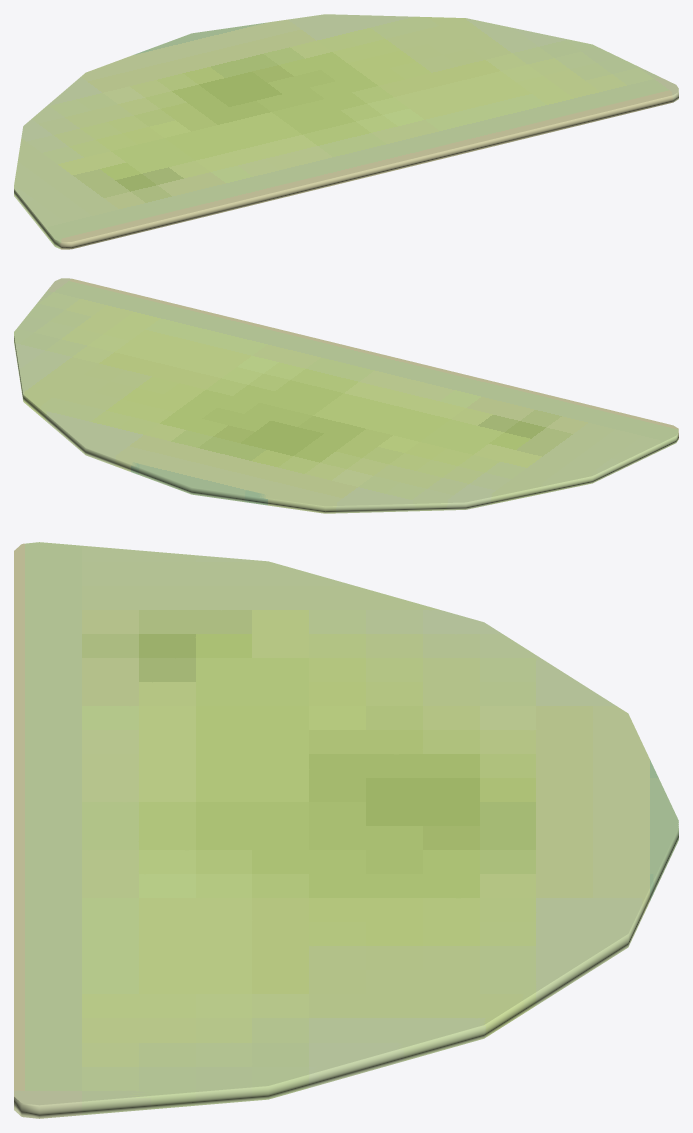
File: a_com_house_a01_mat01_halfcircle.gltf
The picture shows the model from 3 angles, top to bottom: view 1: azimuth 30°, elevation 25°; view 2: azimuth 150°, elevation 25°; view 3: azimuth 270°, elevation 25°; orthographic projection. The views are drawn at different scales.
Visible parts, largest first — view 1: um_a_com_house_a01_mat01_model_a_com_house_a01_mat01_modelSh (×5); view 2: um_a_com_house_a01_mat01_model_a_com_house_a01_mat01_modelSh (×5); view 3: um_a_com_house_a01_mat01_model_a_com_house_a01_mat01_modelSh (×5).
Boxes of the visible parts, x1,y1,x2,y2 form: um_a_com_house_a01_mat01_model_a_com_house_a01_mat01_modelSh (×5): (14,14,678,249); um_a_com_house_a01_mat01_model_a_com_house_a01_mat01_modelSh (×5): (14,278,678,513); um_a_com_house_a01_mat01_model_a_com_house_a01_mat01_modelSh (×5): (14,542,678,1118).
Size of the model in its own units: 2.02 by 0.032 by 1.02.
5 materials, 5 textured.
